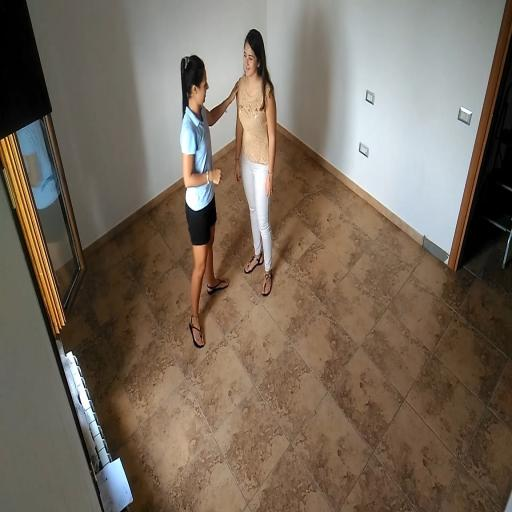nao-violencia: (160, 23, 288, 356)
